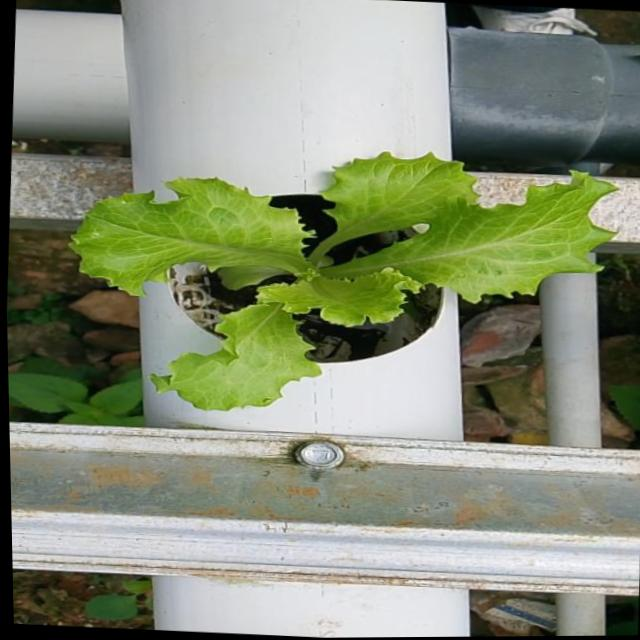Baby: (70, 152, 618, 410)
